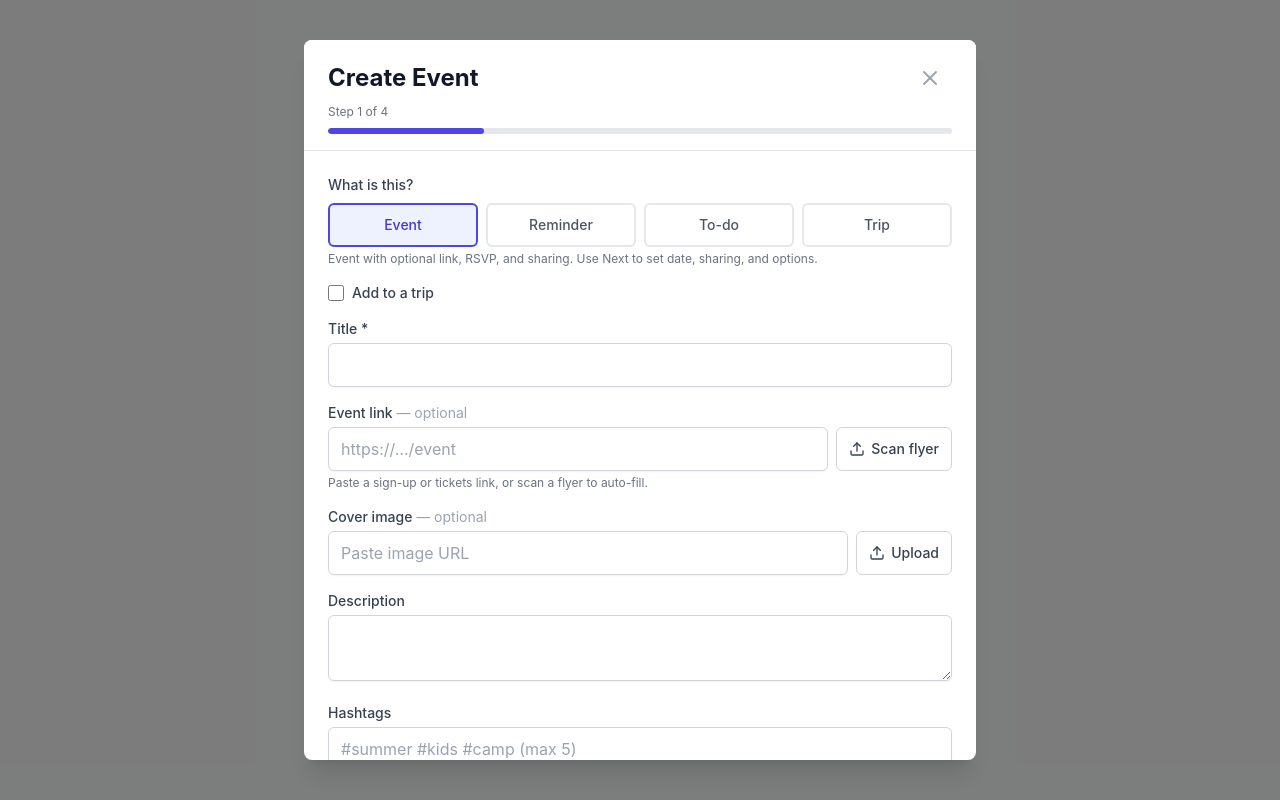
EventForm – smart defaults & validation › shows a soft note when a pasted link cannot be read
The width and height of the screenshot is (1280, 800).
Note: Default kind is "event", so the URL field is on step 1.
Type "https://example.org/x" into the field labelled "Event link — optional" at (578, 449), box left=328, top=427, right=828, bottom=471
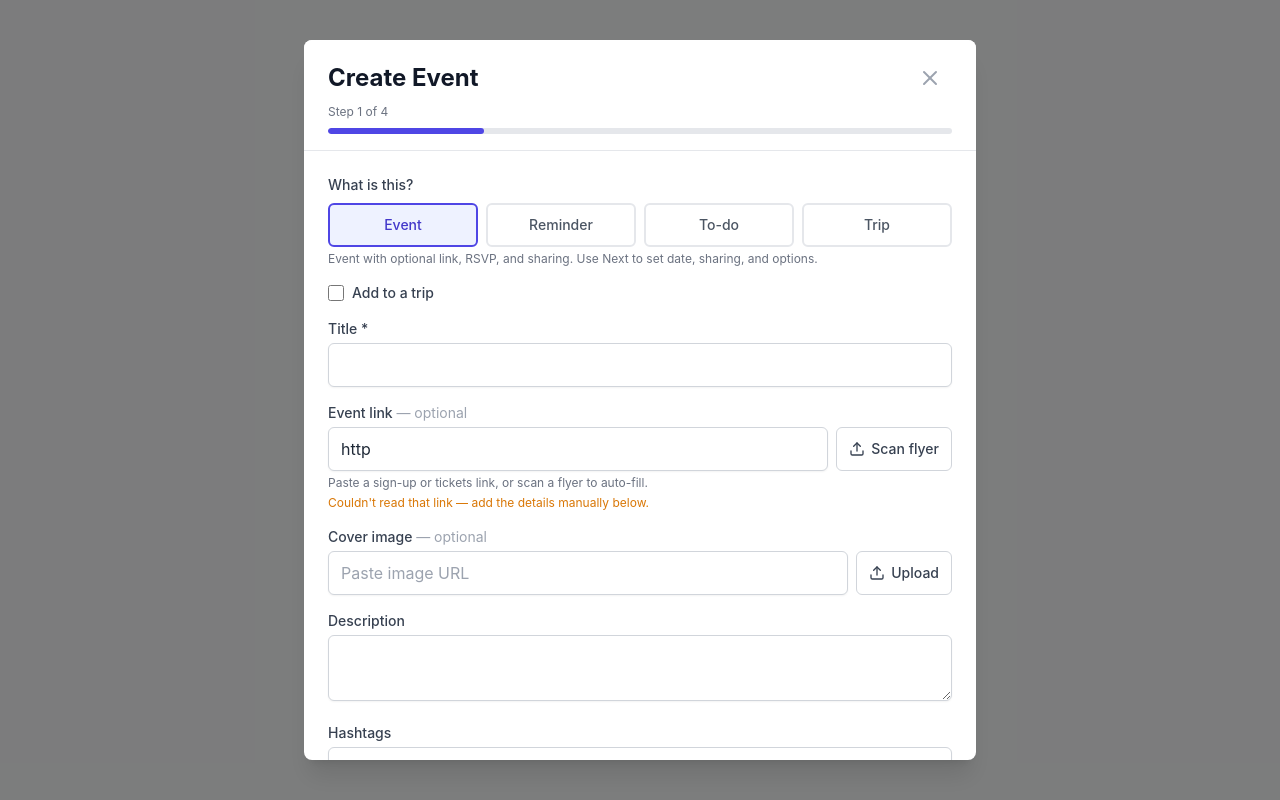
Result: the text "Couldn't read that link — add the details manually below." is shown at left=328, top=495, right=649, bottom=510
